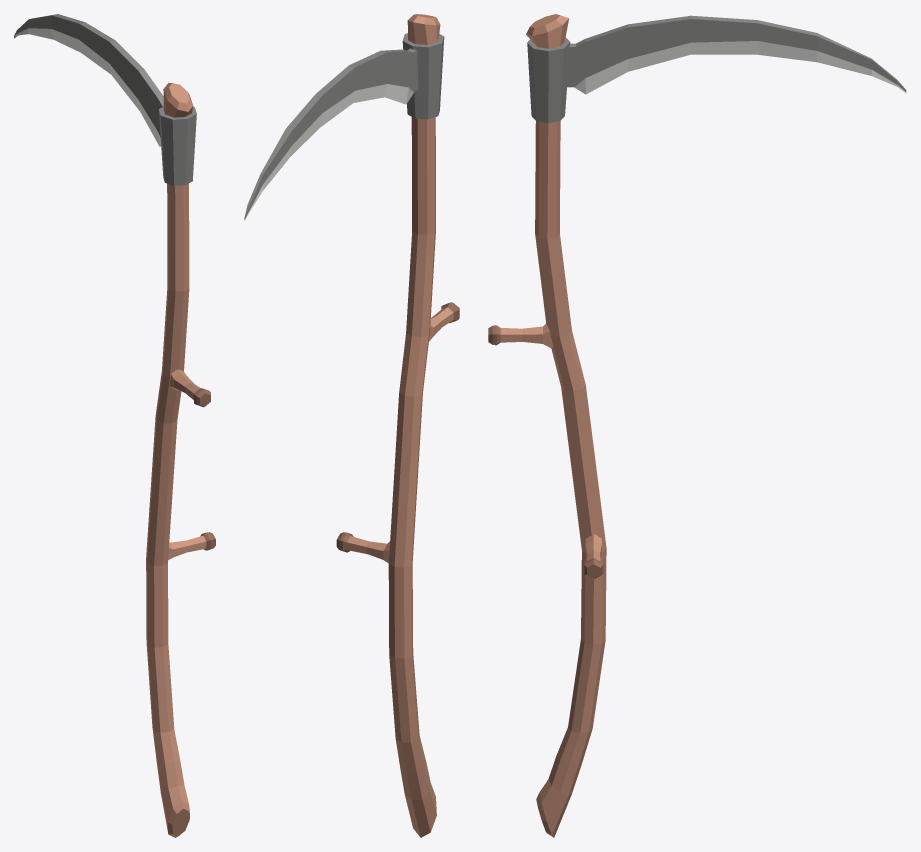
Rendered from Scythe.fbx.
3 views of the same model, side by side, from view 1: azimuth 30°, elevation 25°; view 2: azimuth 150°, elevation 25°; view 3: azimuth 270°, elevation 25° (orthographic). The views are drawn at different scales.
Visible parts, largest first — view 1: Scythe; view 2: Scythe; view 3: Scythe.
Part boxes in pixels (bbox=[...]): Scythe: bbox=[14, 14, 215, 837]; Scythe: bbox=[244, 14, 459, 837]; Scythe: bbox=[488, 14, 906, 837].
Bounding box in the file's own units: 18.74 × 185 × 85.44.
